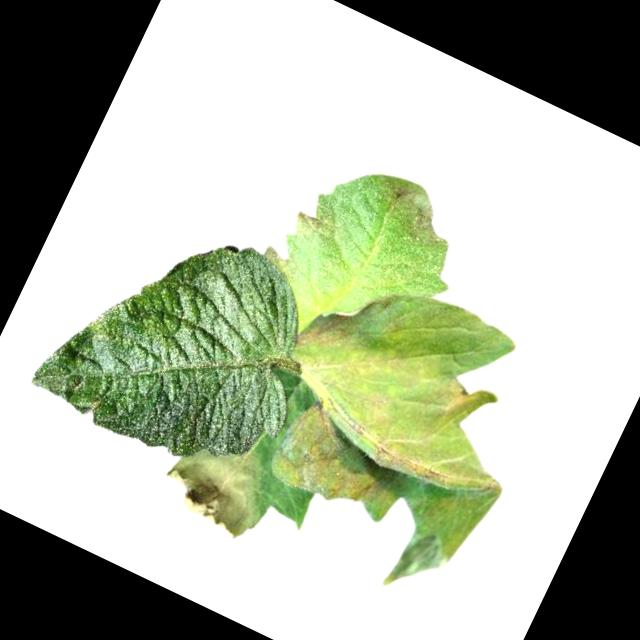Late_blight: (264, 391, 416, 528), (150, 421, 280, 547), (293, 270, 391, 375), (372, 174, 465, 260), (433, 373, 481, 421), (292, 207, 326, 236)
healthy: (22, 185, 344, 498)
